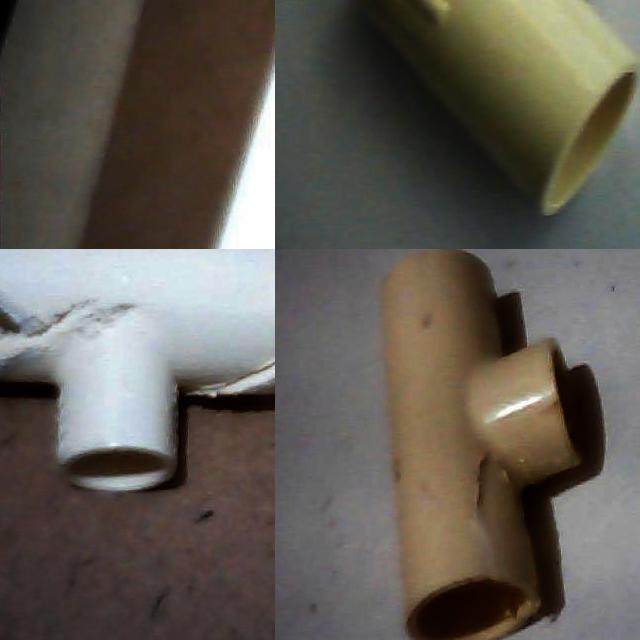Defective: (0, 249, 76, 382), (467, 452, 521, 584), (189, 350, 275, 414)
T Joint: (382, 250, 581, 640), (350, 0, 640, 219)
